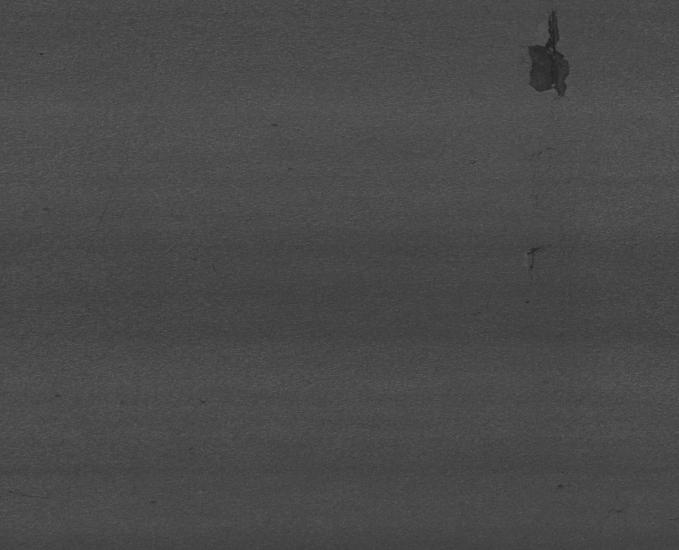剥落: (454, 24, 679, 113)
